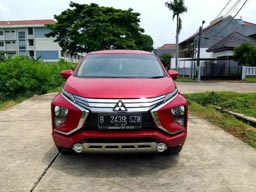plat: (95, 115, 145, 124)
